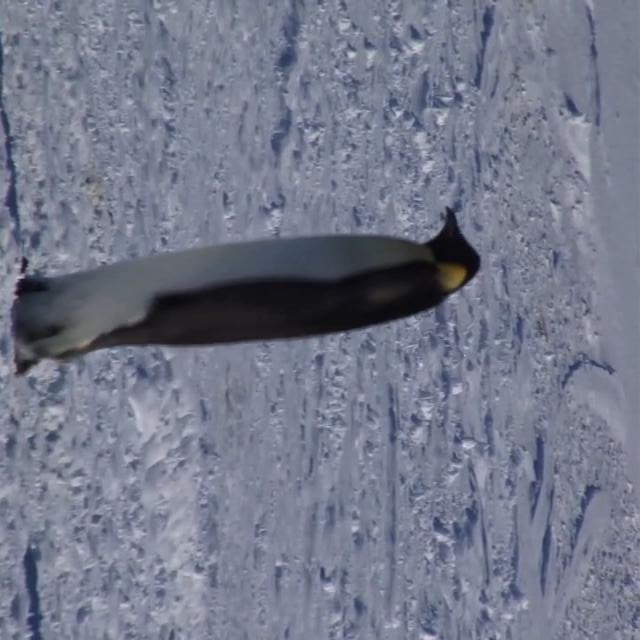penguin: (11, 205, 481, 375)
